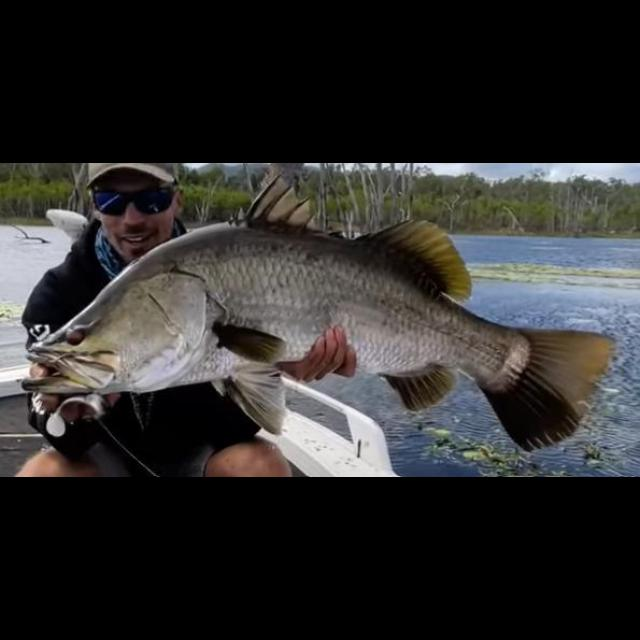Seabass: (23, 170, 615, 454)
